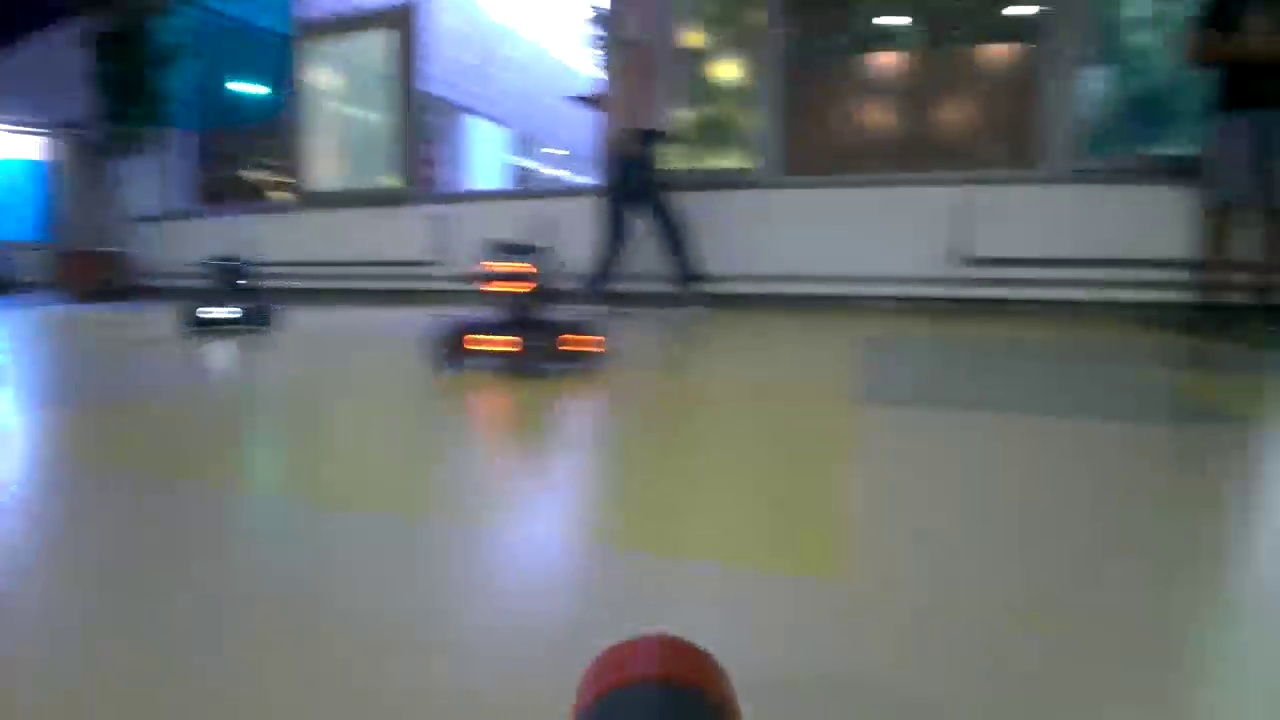robot: (432, 240, 612, 383), (186, 258, 280, 336)
